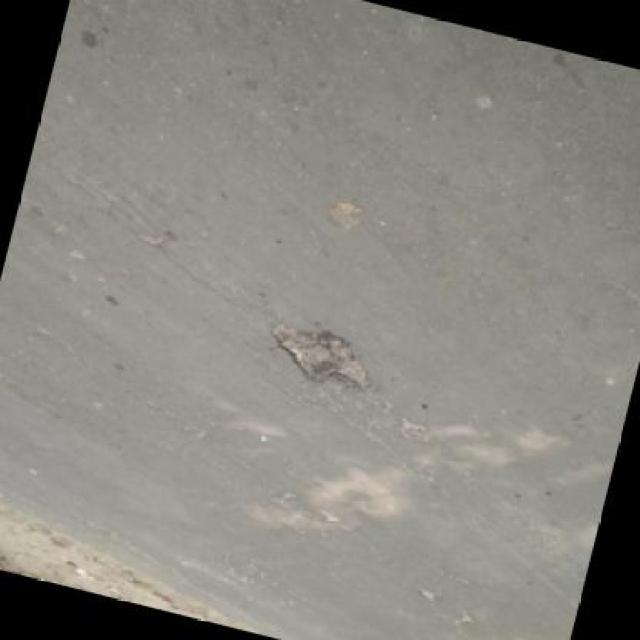pothole1: (256, 318, 382, 400)
